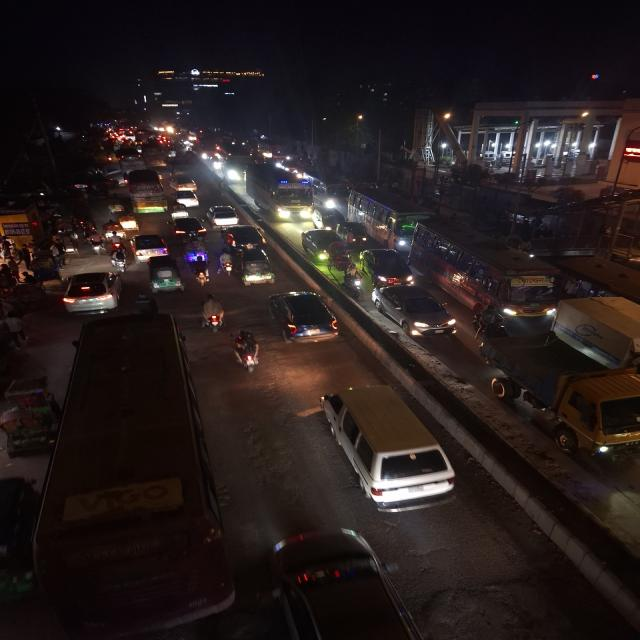bus: (32, 313, 218, 640), (412, 218, 562, 320), (352, 186, 432, 248), (245, 165, 312, 223), (124, 168, 168, 212), (116, 149, 142, 165)
car: (312, 382, 458, 516), (262, 525, 429, 640), (372, 283, 459, 339), (265, 288, 343, 346), (59, 270, 124, 314), (359, 247, 414, 286), (298, 228, 344, 262), (222, 223, 266, 250), (130, 232, 169, 262), (172, 217, 209, 241), (205, 203, 241, 227), (175, 190, 201, 208)
cng: (238, 247, 276, 287), (146, 256, 184, 295), (340, 220, 369, 246)
motorcycle: (228, 326, 262, 376), (472, 308, 512, 342), (198, 293, 228, 333), (189, 253, 212, 287), (340, 267, 366, 297), (86, 229, 107, 256), (108, 247, 128, 275), (103, 218, 125, 240), (218, 249, 235, 277)
rickshaw: (115, 211, 141, 231), (106, 218, 127, 238), (105, 198, 128, 216)
truck: (484, 342, 640, 466)
